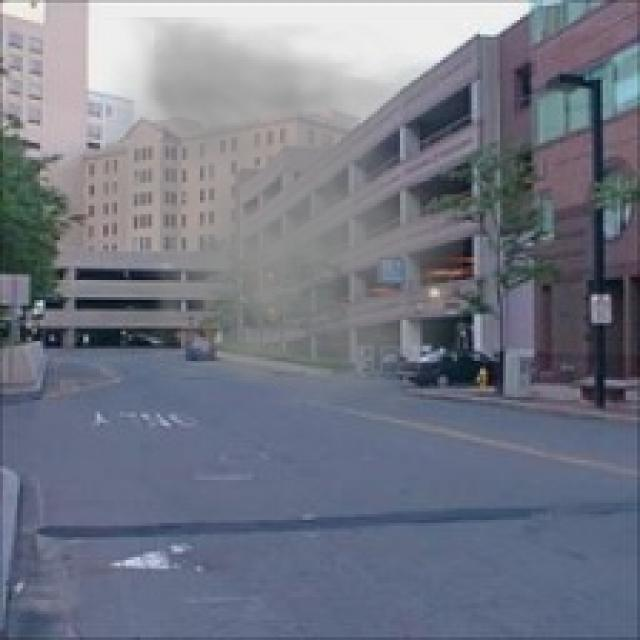smoke: (66, 17, 463, 412)
